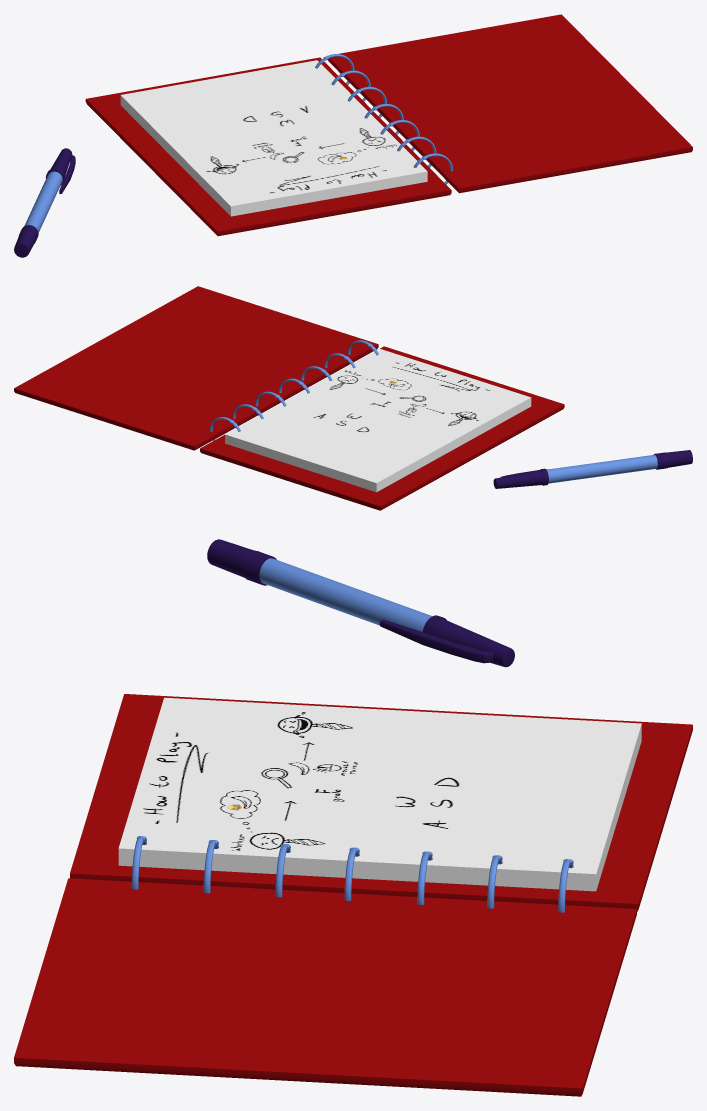
The model's file is defterwithhowtoplay.fbx.
3 renders of one model, top to bottom at view 1: azimuth 30°, elevation 25°; view 2: azimuth 150°, elevation 25°; view 3: azimuth 270°, elevation 25°, orthographic. The views are drawn at different scales.
Visible parts, largest first — view 1: Notebook and Pen.006; view 2: Notebook and Pen.006; view 3: Notebook and Pen.006.
Part boxes in pixels (x1=…): Notebook and Pen.006: x1=14, y1=14, x2=692, y2=257; Notebook and Pen.006: x1=14, y1=286, x2=692, y2=510; Notebook and Pen.006: x1=14, y1=539, x2=692, y2=1096.
Size of the model in its own units: 51.04 by 5.2 by 95.63.
